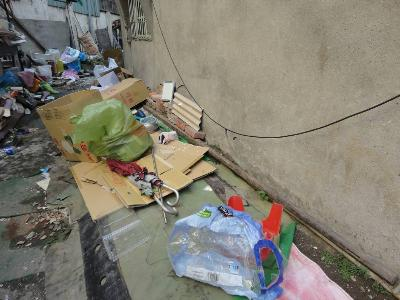plastic_bag: (168, 205, 287, 300), (74, 103, 151, 159)
